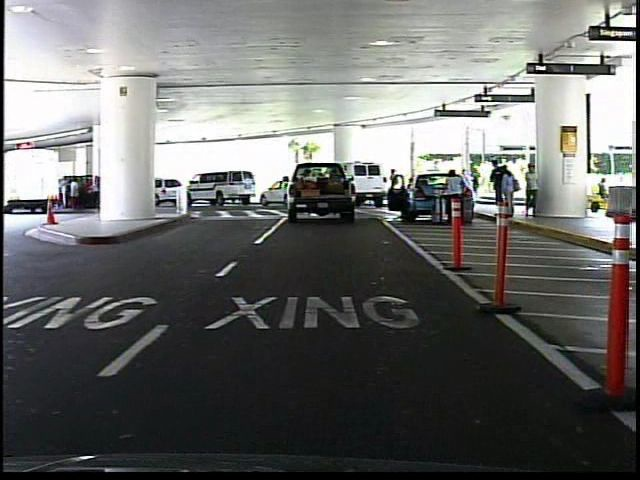person: (439, 163, 466, 227), (519, 159, 542, 221), (386, 165, 404, 212)
